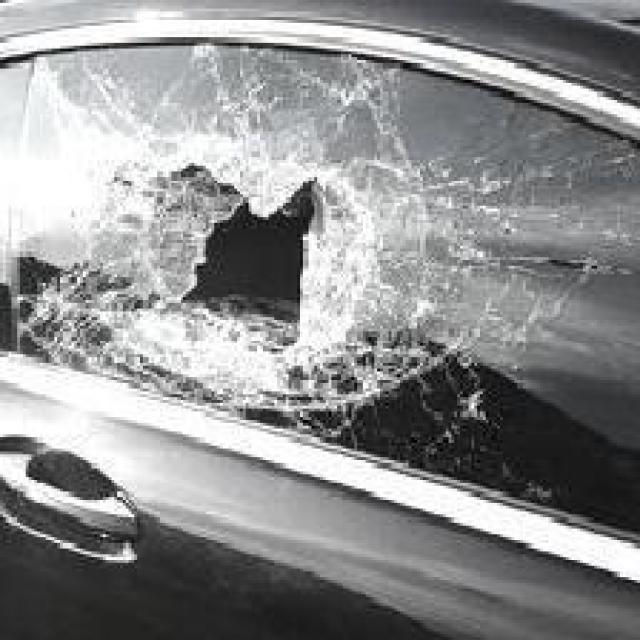damaged: (34, 54, 546, 512)
